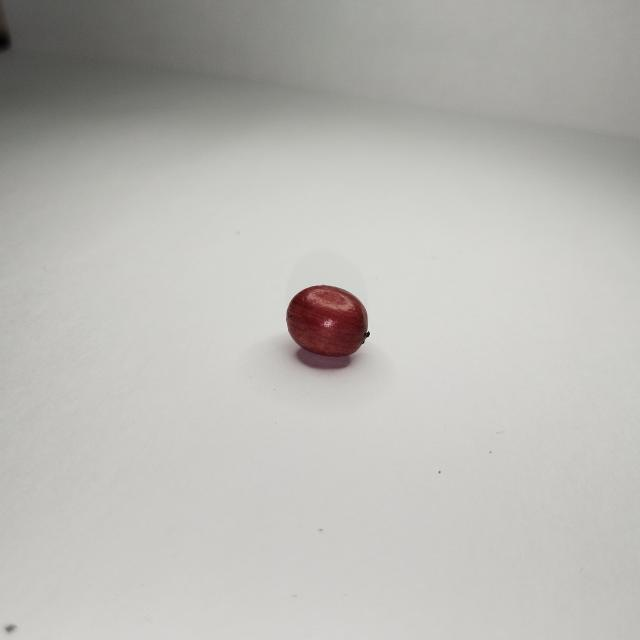Sano: (287, 285, 369, 364)
